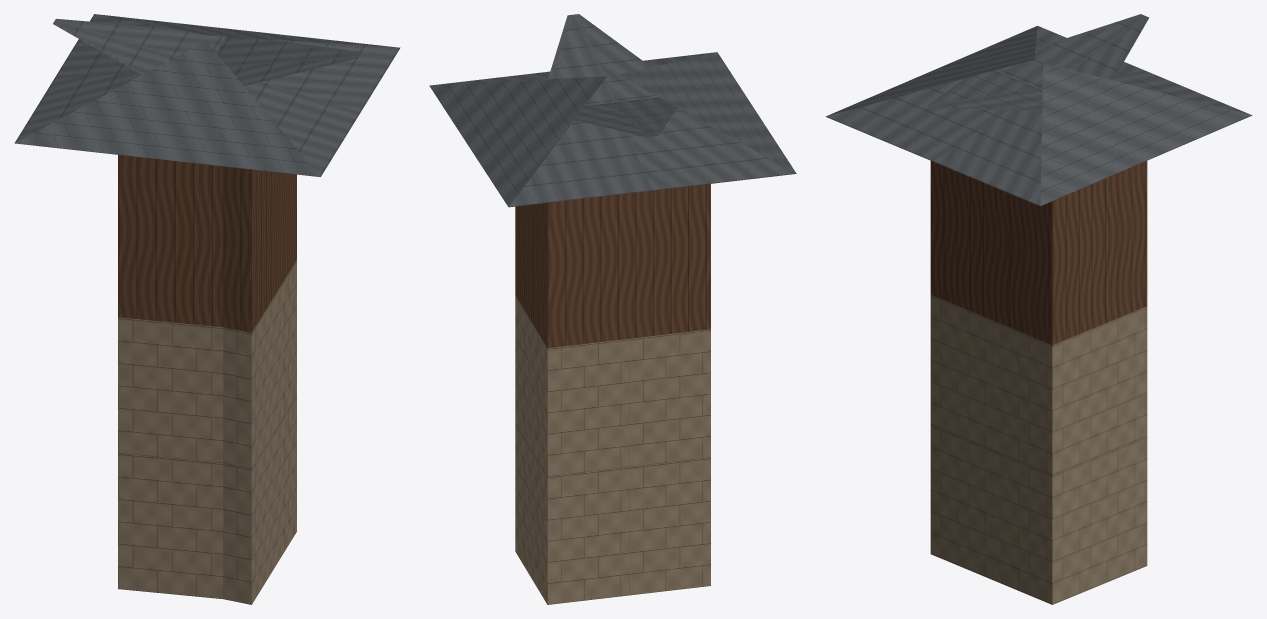
File: bld_c5_8_482.gltf
3 renders of one model, left to right at view 1: azimuth 30°, elevation 25°; view 2: azimuth 150°, elevation 25°; view 3: azimuth 270°, elevation 25°, orthographic. The views are drawn at different scales.
Visible parts, largest first — view 1: bld_c5_8_482; view 2: bld_c5_8_482; view 3: bld_c5_8_482.
Boxes of the visible parts, x1,y1,x2,y2 form: bld_c5_8_482: (14,14,400,604); bld_c5_8_482: (429,14,796,604); bld_c5_8_482: (825,14,1252,604).
Bounding box in the file's own units: 7.07 × 9.1 × 7.07.
Materials: 3 (3 with a texture image).
